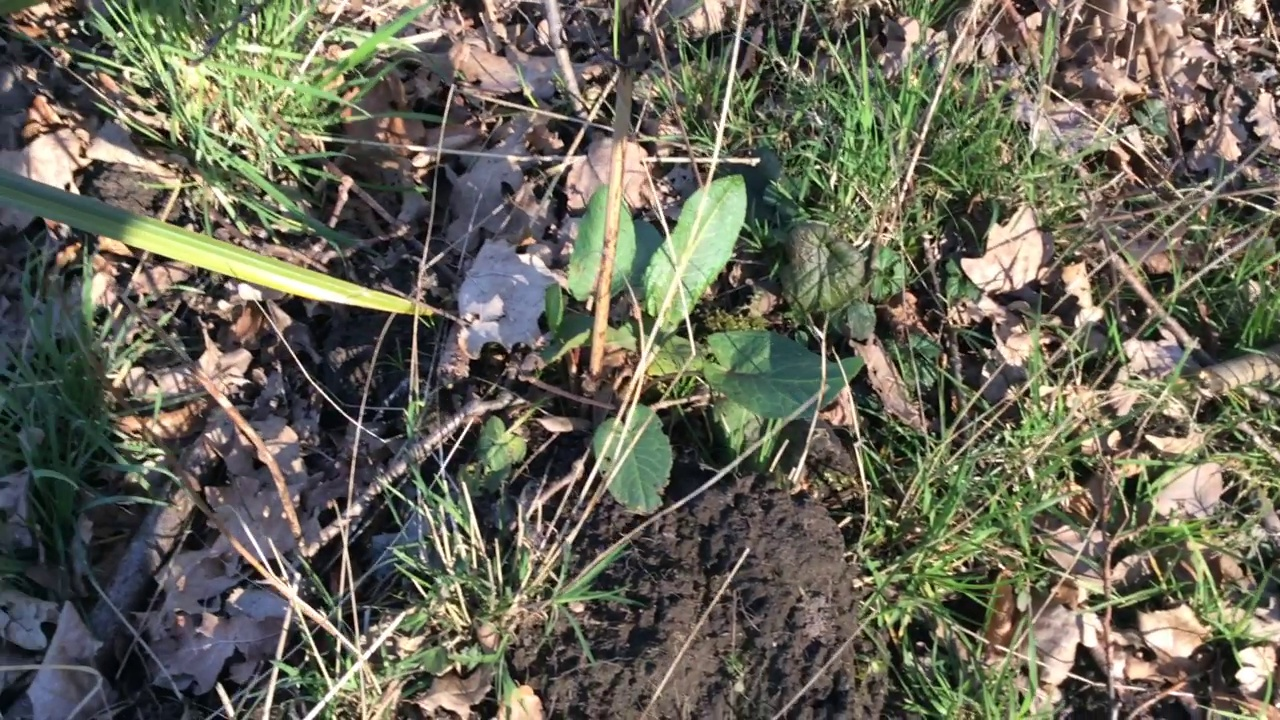rumex: (475, 175, 865, 516)
